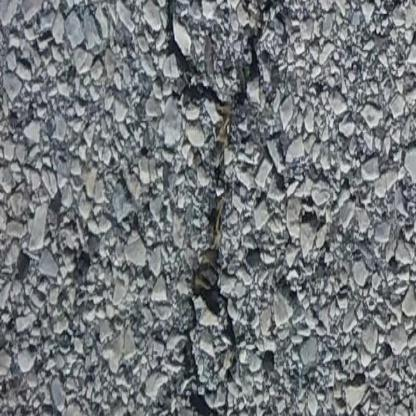Cracks: (150, 0, 304, 354), (177, 298, 234, 416), (358, 0, 396, 11)
